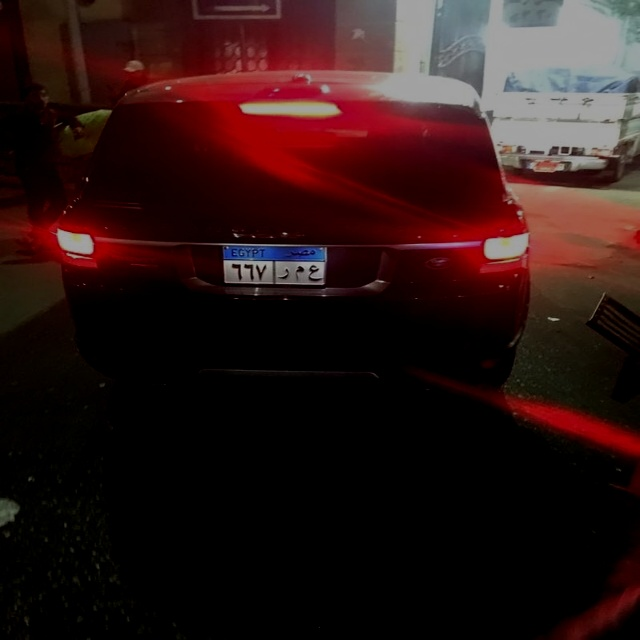License Plate: (219, 242, 330, 286)
